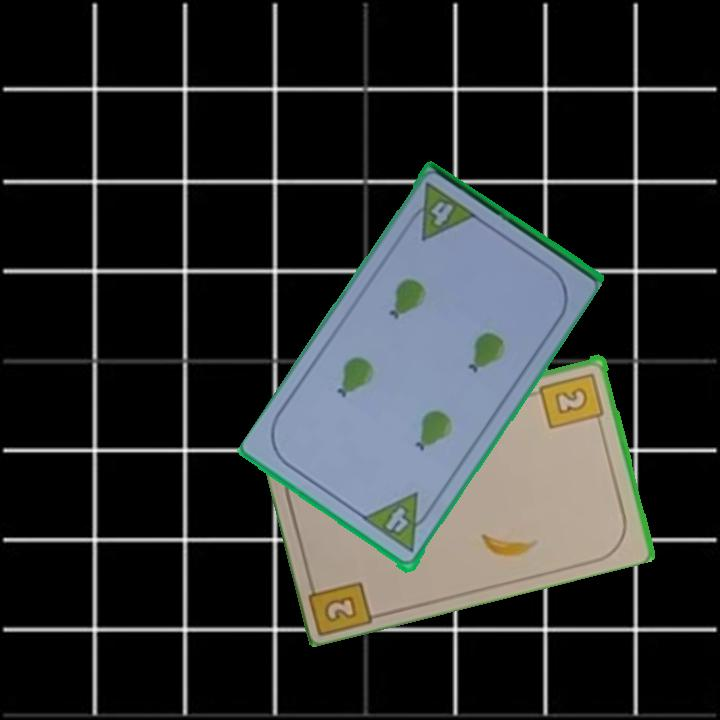2b: (304, 571, 378, 636), (537, 368, 607, 431)
4p: (360, 490, 438, 557), (401, 179, 479, 245)
